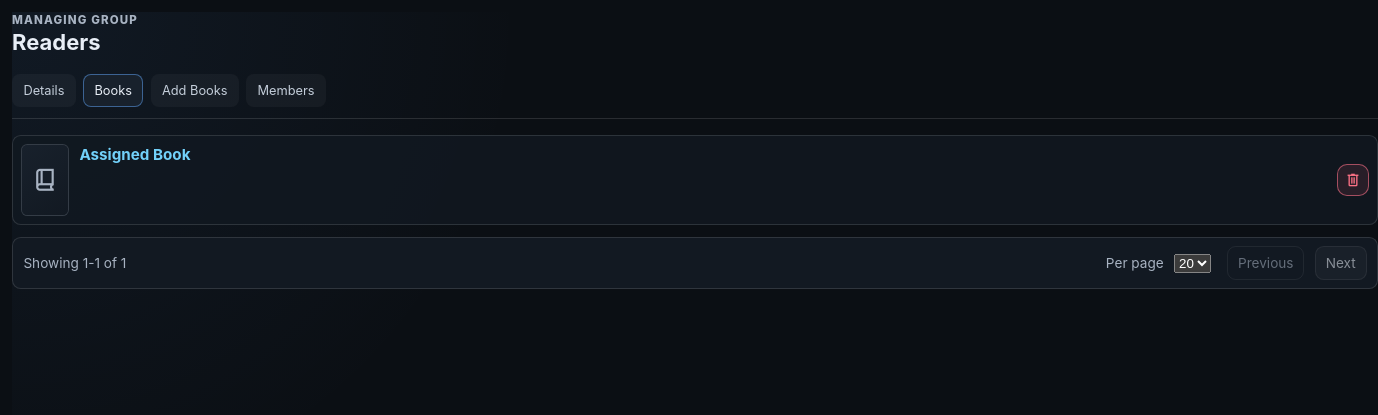
Test: GroupEditOrchestrator Book assignments › keeps an assigned Book visible when removal fails
The width and height of the screenshot is (1378, 415).
Click the button named "Remove Assigned Book from group" at (1353, 180), box 1337,164 -> 1369,196
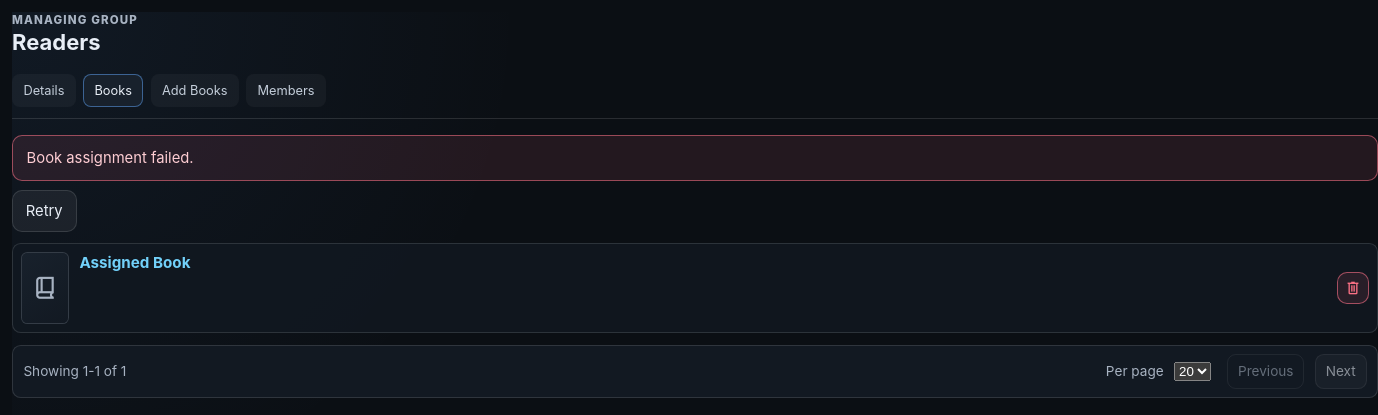
Expected: the text "Assigned Book" is shown, 79,253 -> 190,272
Result: the message "Book assignment failed." is shown at 12,135 -> 1377,181
